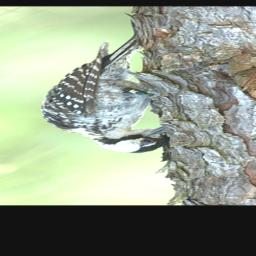Woodpecker: (37, 35, 169, 153)
